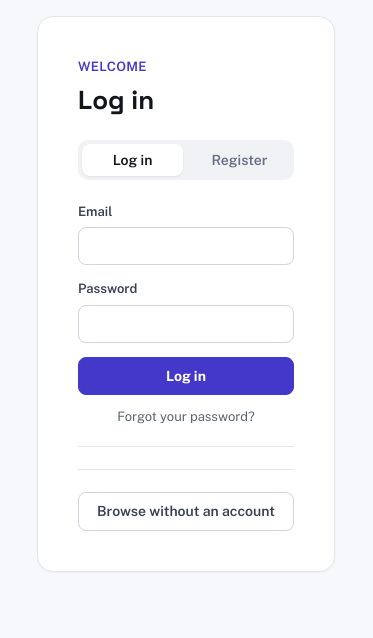
Test: AuthForms › hides the recovery link in register mode — there's no account to recover yet
Expected: the button "Forgot your password?" is shown, [117,409,255,424]
Click the button "Register": point(239, 160) [189,144,290,176]
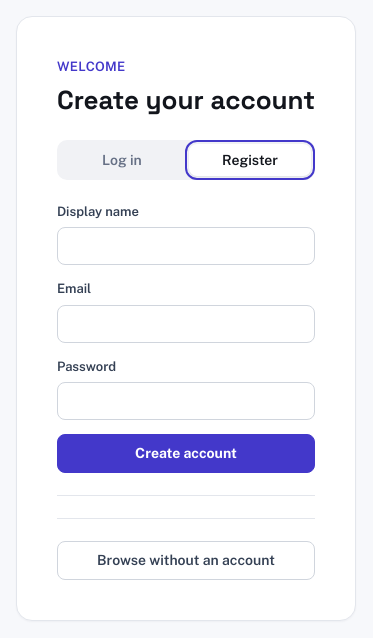
Now the button "Forgot your password?" is gone
